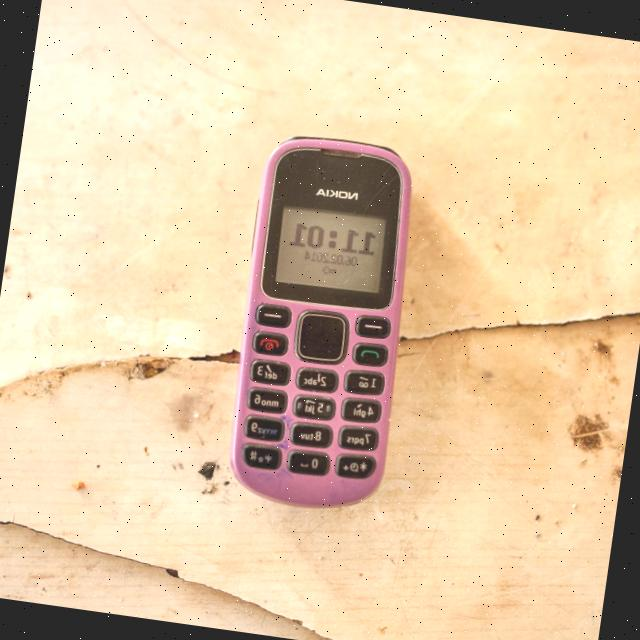Phone: (216, 125, 429, 516)
